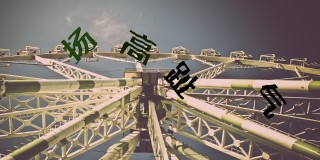扬: (61, 26, 97, 64)
气: (260, 84, 286, 118)
趾: (164, 60, 198, 100)
高: (120, 29, 156, 65)
